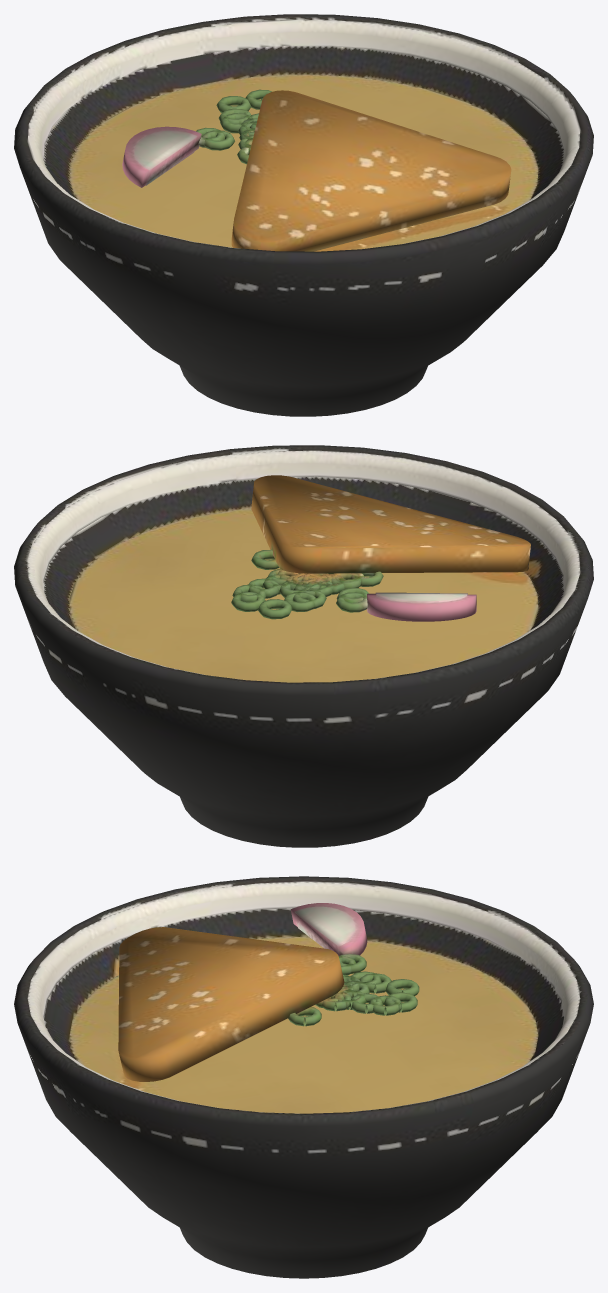
The model's file is udon_nn0.glb.
3 views of the same model, one above another, from view 1: azimuth 30°, elevation 25°; view 2: azimuth 150°, elevation 25°; view 3: azimuth 270°, elevation 25° (orthographic).
Visible parts, largest first — view 1: prop_udon_nn0_felt; view 2: prop_udon_nn0_felt; view 3: prop_udon_nn0_felt.
Part boxes in pixels (bbox=[...]): prop_udon_nn0_felt: bbox=[14, 14, 593, 416]; prop_udon_nn0_felt: bbox=[14, 445, 593, 847]; prop_udon_nn0_felt: bbox=[14, 876, 593, 1278].
Size of the model in its own units: 0.3018 by 0.1515 by 0.3018.
1 material, 1 textured.
